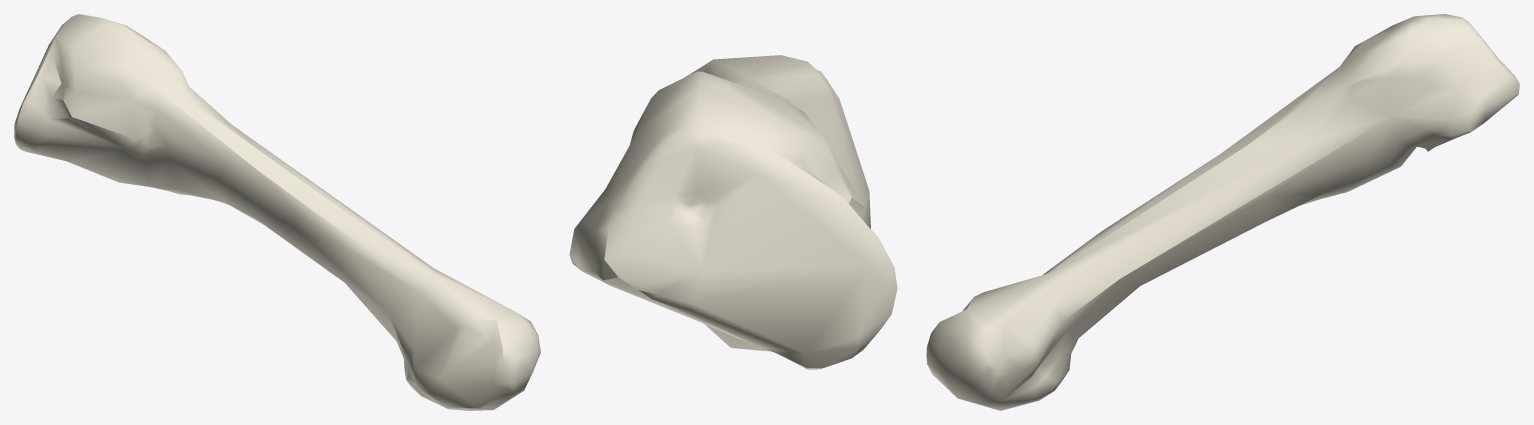
Rendered from fma24514_fj6361.glb.
3 views of the same model, side by side, from view 1: azimuth 30°, elevation 25°; view 2: azimuth 150°, elevation 25°; view 3: azimuth 270°, elevation 25° (orthographic). The views are drawn at different scales.
Parts seen in each view (by area): view 1: FMA24514_FJ6361; view 2: FMA24514_FJ6361; view 3: FMA24514_FJ6361.
Boxes of the visible parts, bbox=[...] form: FMA24514_FJ6361: bbox=[14, 14, 540, 410]; FMA24514_FJ6361: bbox=[569, 55, 897, 369]; FMA24514_FJ6361: bbox=[926, 14, 1519, 410].
Bounding box in the file's own units: 0.041 × 0.0354 × 0.0626.
